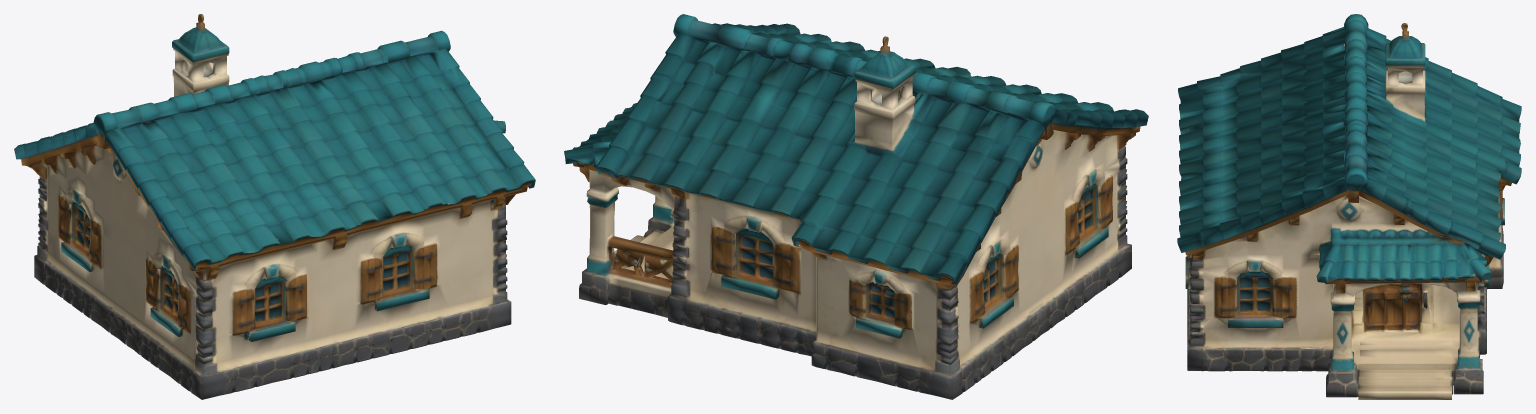
The model's file is pack-stylized-cottage.glb.
3 renders of one model, left to right at view 1: azimuth 30°, elevation 25°; view 2: azimuth 150°, elevation 25°; view 3: azimuth 270°, elevation 25°, orthographic. The views are drawn at different scales.
Visible parts, largest first — view 1: tripo_node_607ec1dd-5464-4b01-a610-d372521425b3; view 2: tripo_node_607ec1dd-5464-4b01-a610-d372521425b3; view 3: tripo_node_607ec1dd-5464-4b01-a610-d372521425b3.
Part boxes in pixels (<box>): tripo_node_607ec1dd-5464-4b01-a610-d372521425b3: <box>14,14,535,399</box>; tripo_node_607ec1dd-5464-4b01-a610-d372521425b3: <box>564,14,1148,399</box>; tripo_node_607ec1dd-5464-4b01-a610-d372521425b3: <box>1177,14,1521,399</box>.
Bounding box in the file's own units: 0.9713 × 0.652 × 0.7888.
1 material, 1 textured.
